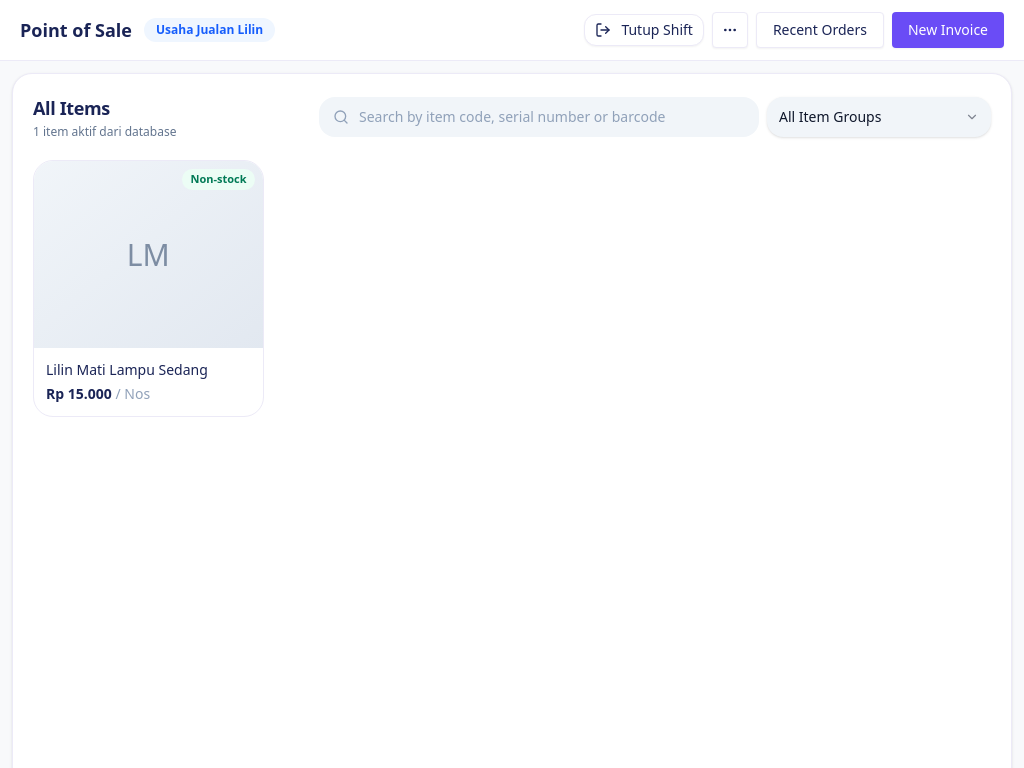
Test: PointOfSalePage › transitions to full Payment screen on checkout without popup dialog, supports numpad and edit cart
Note: Add item to cart
Step 1. Click the text "Lilin Mati Lampu Sedang" → (127,370), box left=46, top=360, right=208, bottom=379
(page scrolled)
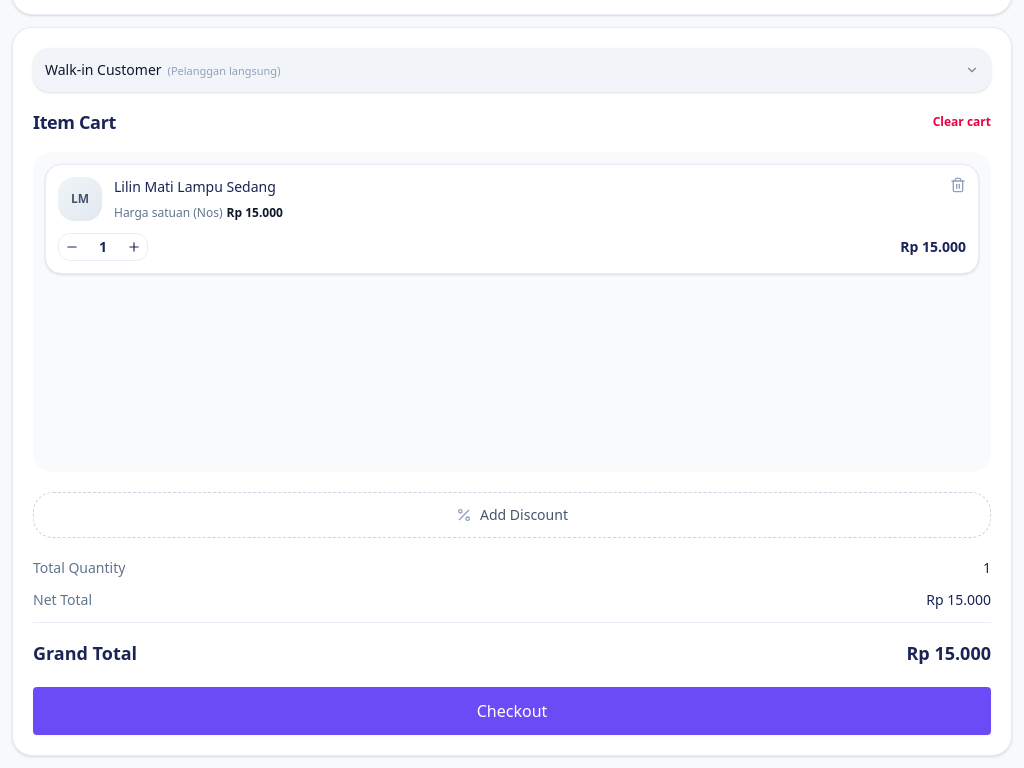
Note: Click Checkout
Step 2. Click the button "Checkout" → (512,711), box left=33, top=687, right=991, bottom=735
(page scrolled)
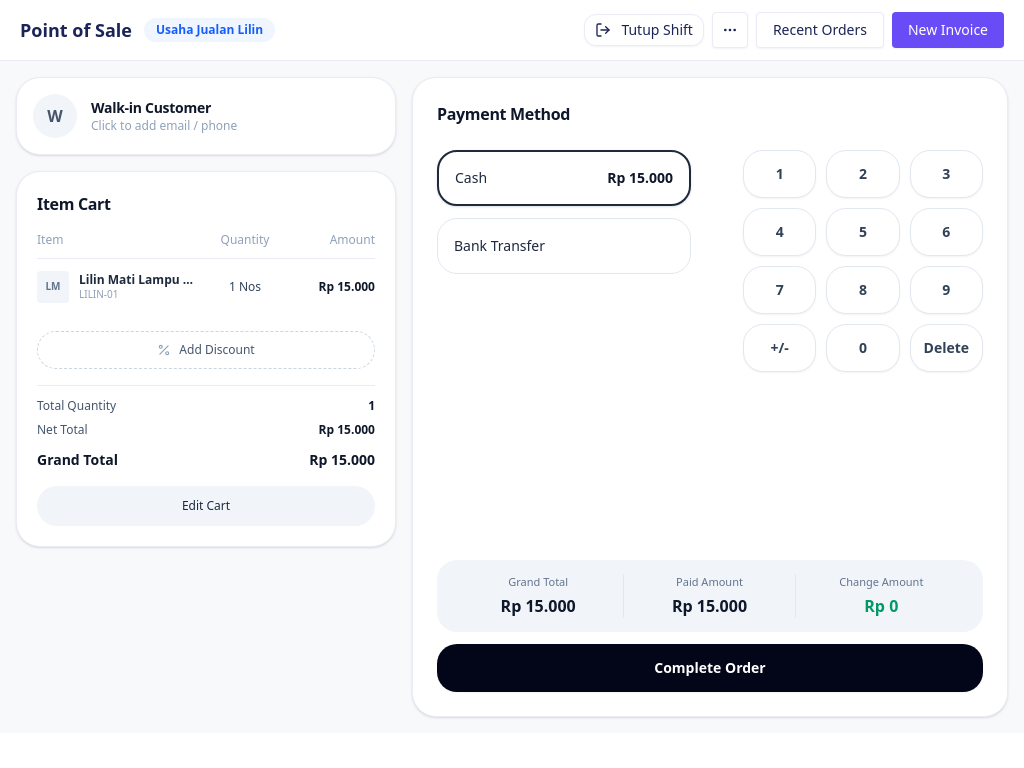
Expected: the heading "Payment Method" is shown, left=437, top=103, right=570, bottom=125
Expected: the text "Cash" is shown, left=455, top=168, right=487, bottom=188
Expected: the text "Bank Transfer" is shown, left=454, top=236, right=545, bottom=256
Note: Verify Edit Cart button exists and switches back
Step 3. Click the button "Edit Cart" → (206,506), box left=37, top=486, right=375, bottom=526
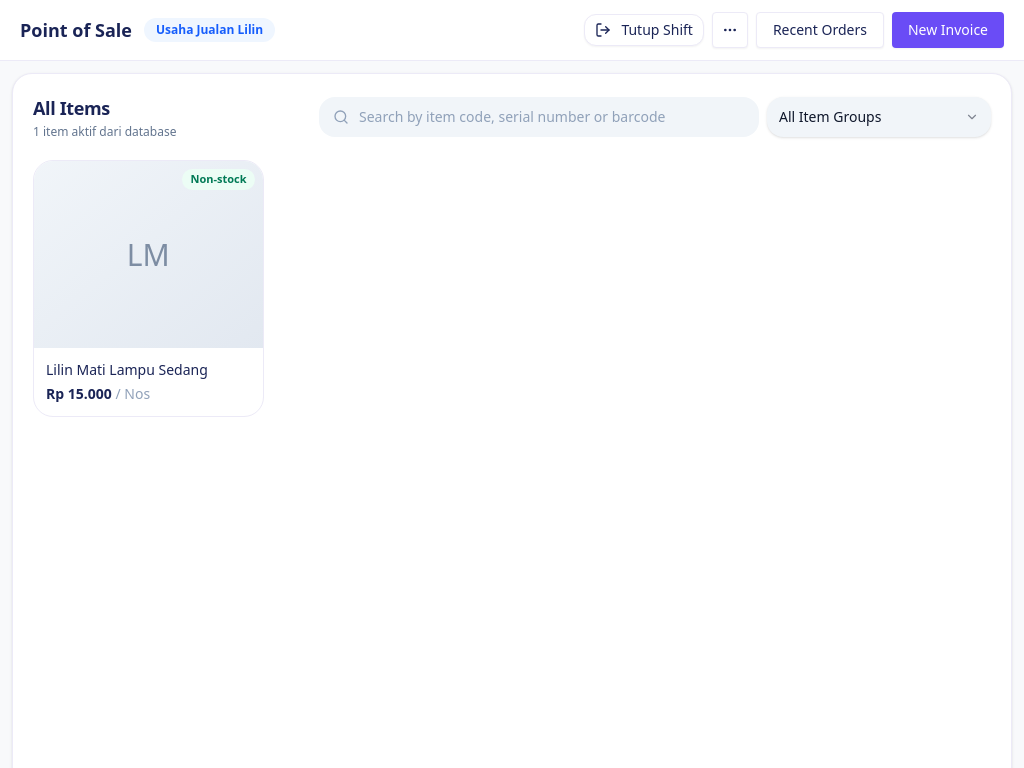
Expected: the heading "All Items" is shown, left=33, top=96, right=110, bottom=120
